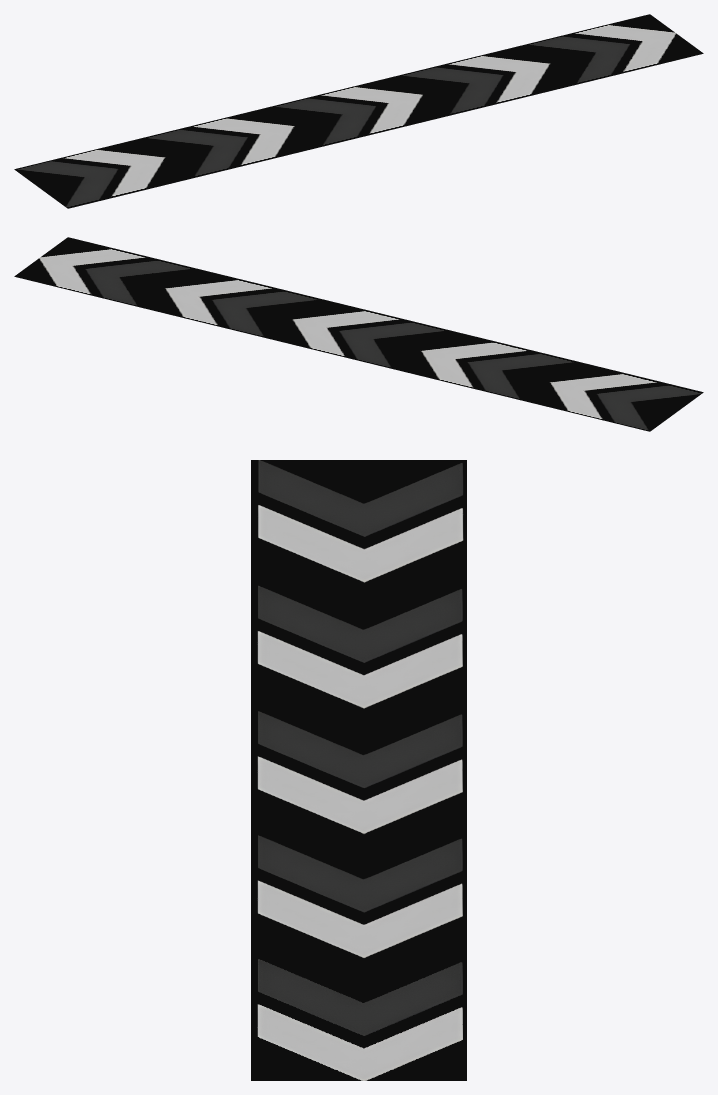
The model's file is RAY OKU.fbx.
3 renders of one model, top to bottom at view 1: azimuth 30°, elevation 25°; view 2: azimuth 150°, elevation 25°; view 3: azimuth 270°, elevation 25°, orthographic. The views are drawn at different scales.
Parts seen in each view (by area): view 1: Cube.001; view 2: Cube.001; view 3: Cube.001.
Part boxes in pixels (bbox=[...]): Cube.001: bbox=[14, 14, 703, 208]; Cube.001: bbox=[14, 237, 703, 431]; Cube.001: bbox=[251, 460, 466, 1080].
Size of the model in its own units: 1360 by 3.26e-05 by 200.
Materials: 1 (1 with a texture image).
